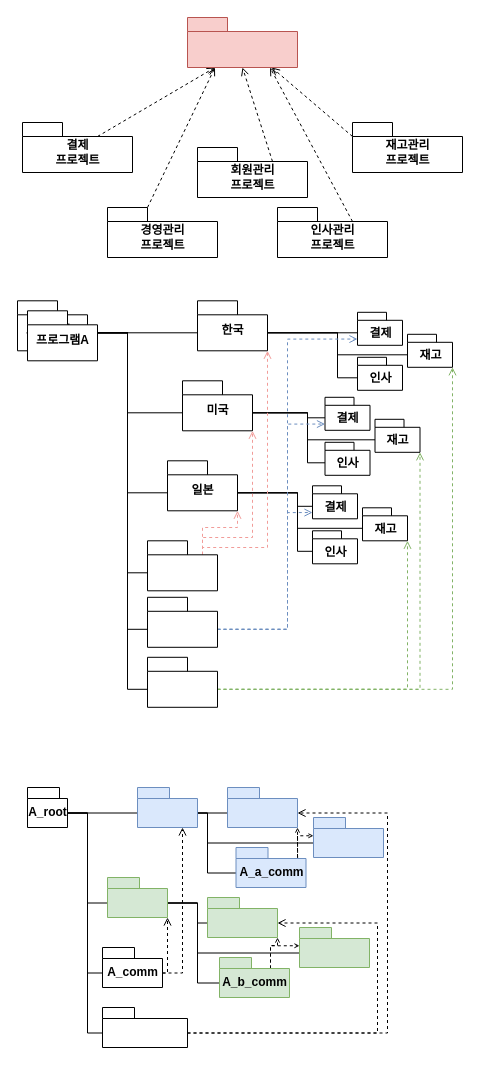
The diagram is 480 pixels wide and 1065 high, and some of its shapes have lost their labels. Each missing label, with the centre of its shape:
"A_a_b" belongs at [348,837].
"A_a_root" belongs at [167,807].
"A_a_web" belongs at [262,807].
"A_b_b" belongs at [334,947].
"A_b_root" belongs at [137,897].
"A_b_web" belongs at [242,917].
"A_web_comm" belongs at [145,1027].
"결제 공통모듈" belongs at [182,621].
"공통 모듈" belongs at [242,42].
"국가레벨 공통모듈" belongs at [182,565].
"웹 프로젝트 공통 모듈" belongs at [182,681].
